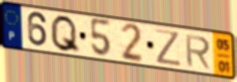2: (119, 22, 144, 64)
5: (89, 16, 112, 60)
6: (26, 10, 49, 50)
Q: (50, 14, 82, 56)
R: (184, 34, 212, 71)
Z: (154, 28, 184, 68)
